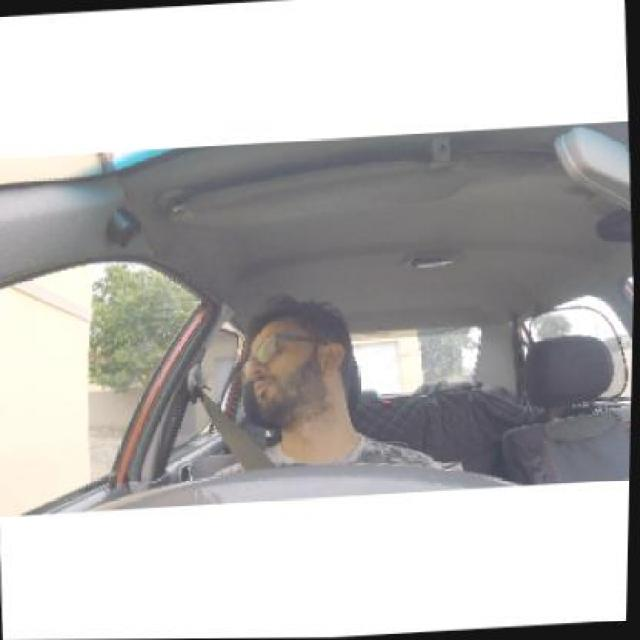drowsy: (242, 285, 362, 446)
